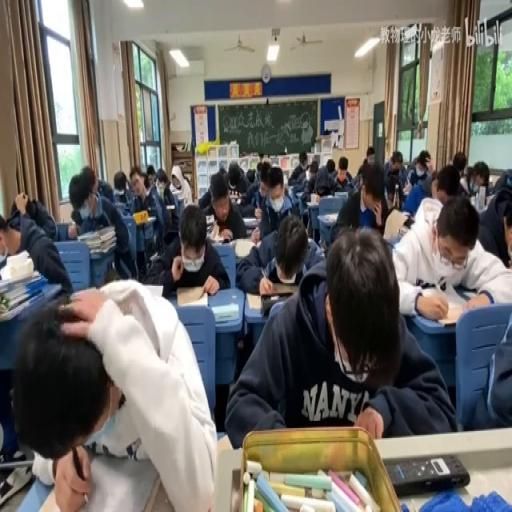calculator: (0, 287, 45, 320), (0, 266, 39, 292), (382, 206, 409, 240), (76, 224, 114, 242), (210, 300, 238, 322), (231, 236, 256, 258), (140, 282, 164, 297), (90, 244, 115, 258), (206, 224, 224, 242), (478, 192, 494, 210), (245, 292, 261, 308), (137, 214, 155, 224), (242, 214, 258, 224), (325, 212, 338, 222), (334, 190, 350, 198), (205, 213, 214, 226), (296, 189, 306, 198), (306, 198, 320, 204), (114, 202, 124, 209), (165, 203, 174, 209)
paper: (226, 228, 450, 448), (13, 277, 211, 512), (389, 192, 510, 316), (149, 205, 229, 300), (462, 296, 510, 429), (249, 163, 294, 239), (198, 162, 246, 215), (69, 164, 115, 214), (10, 194, 57, 240), (154, 168, 179, 233), (430, 164, 460, 204), (406, 149, 433, 189), (460, 158, 486, 199), (382, 148, 405, 192), (333, 195, 358, 233), (112, 168, 134, 208), (331, 155, 354, 192), (0, 215, 19, 256), (287, 154, 309, 189), (355, 147, 375, 179), (492, 169, 512, 195), (451, 151, 466, 175), (146, 164, 155, 186), (353, 170, 362, 190), (130, 174, 140, 192), (155, 175, 166, 189), (245, 168, 255, 183), (308, 161, 318, 175), (325, 156, 334, 170), (171, 179, 181, 189), (256, 161, 262, 175), (282, 174, 288, 188), (300, 156, 306, 168), (258, 152, 265, 161)
person: (384, 452, 470, 494), (261, 294, 293, 316), (228, 468, 241, 510), (262, 282, 296, 296), (54, 292, 73, 308), (402, 214, 414, 228), (221, 236, 228, 242)
